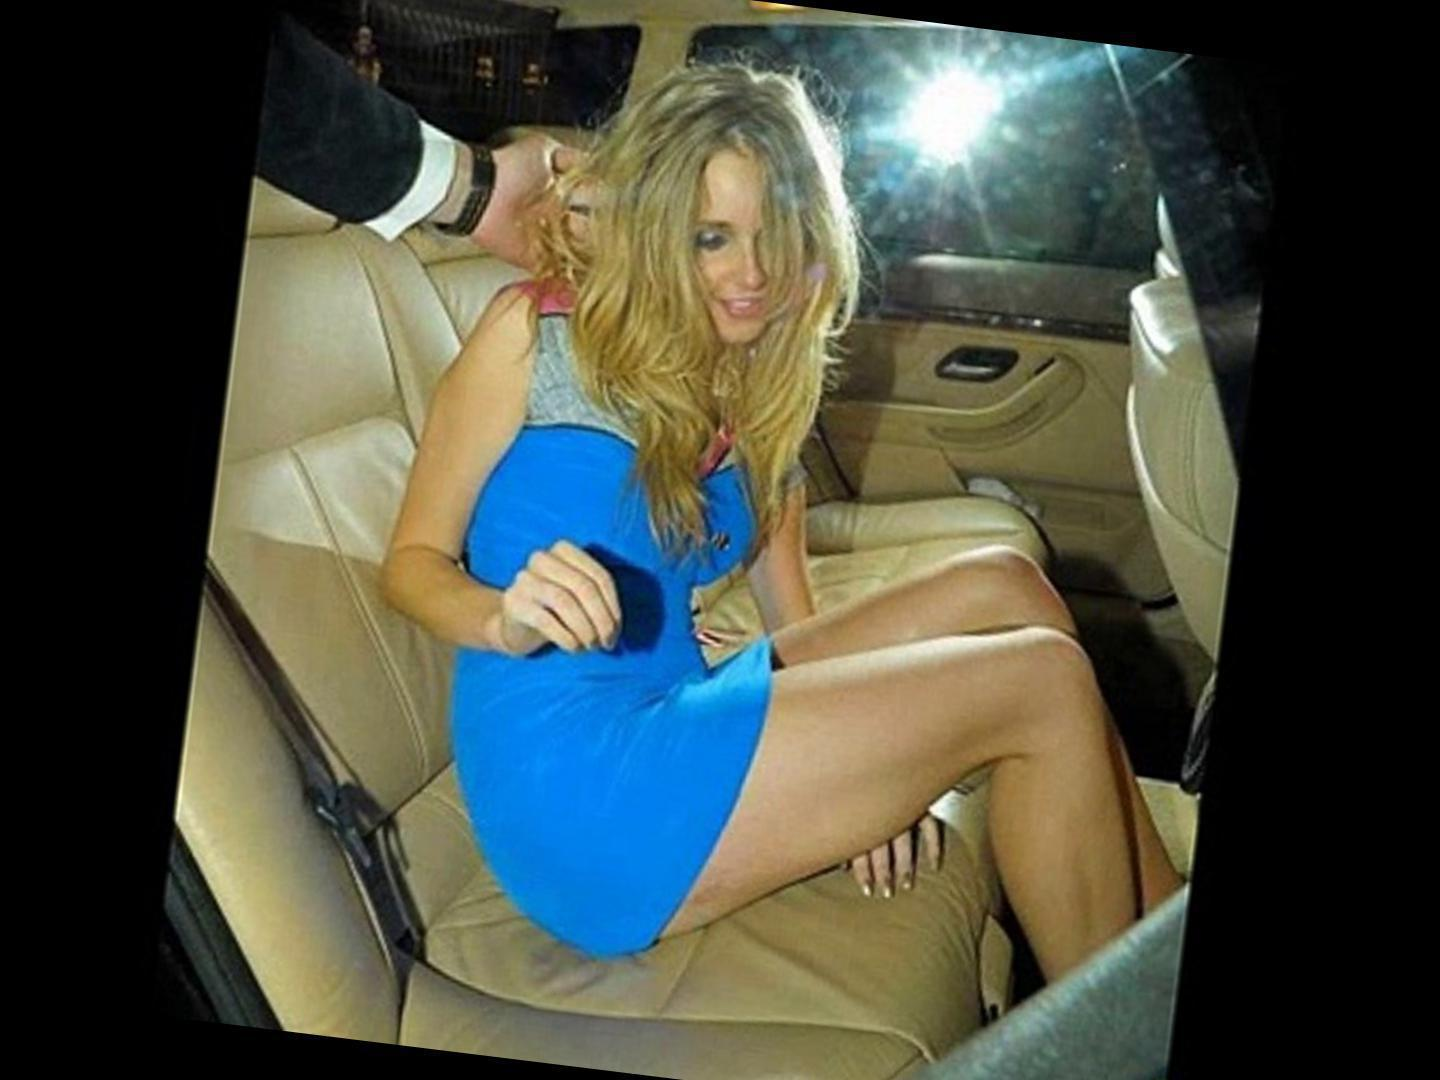Drunk: (681, 146, 793, 344)
